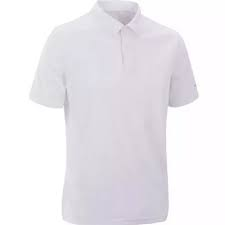C_polo shirt: (29, 3, 199, 223)
